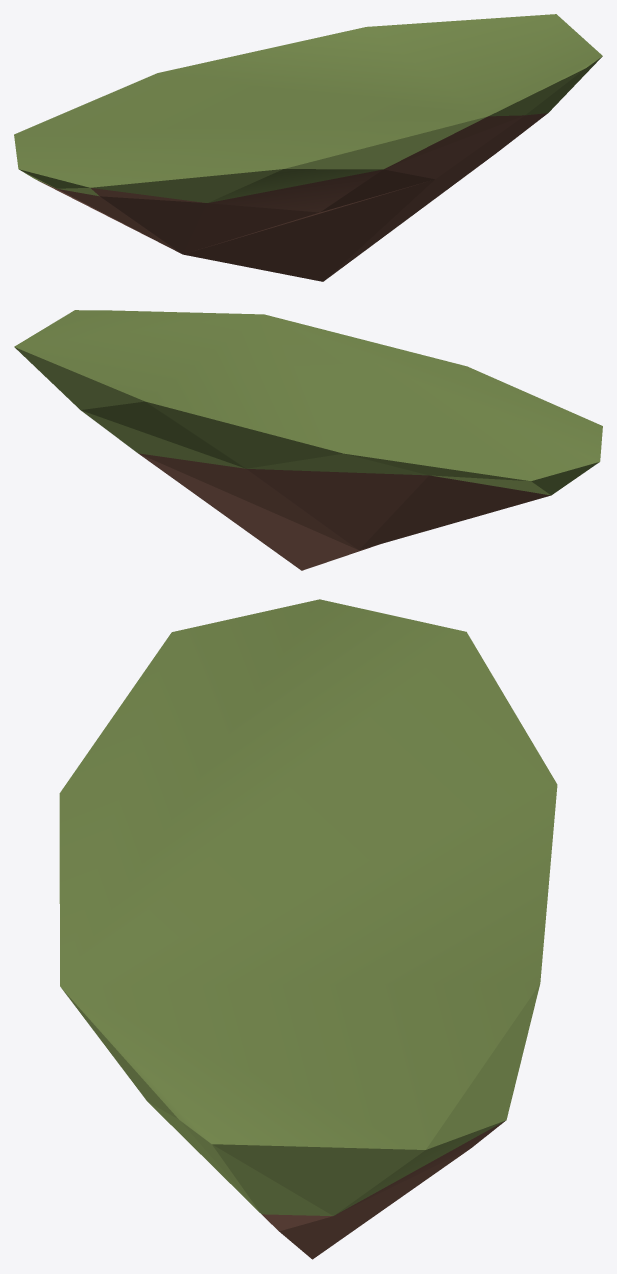
The model's file is lvl2-plataformaIzq.fbx.
The picture shows the model from 3 angles, top to bottom: view 1: azimuth 30°, elevation 25°; view 2: azimuth 150°, elevation 25°; view 3: azimuth 270°, elevation 25°; orthographic projection. The views are drawn at different scales.
Visible parts, largest first — view 1: Icosphere.003; view 2: Icosphere.003; view 3: Icosphere.003.
Boxes of the visible parts, x1,y1,x2,y2 form: Icosphere.003: [14, 14, 602, 281]; Icosphere.003: [14, 310, 602, 570]; Icosphere.003: [59, 599, 557, 1259].
Bounding box in the file's own units: 8277 × 2646 × 3189.
